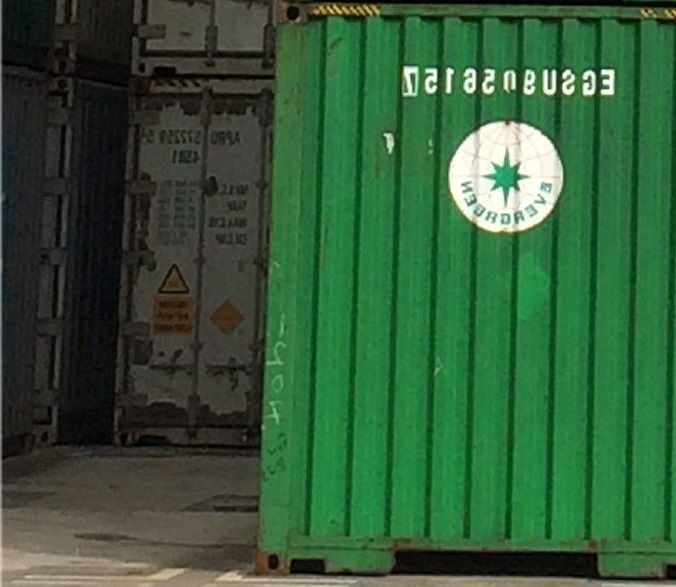container_door: (111, 73, 257, 449)
container_no_door: (277, 4, 676, 579)
